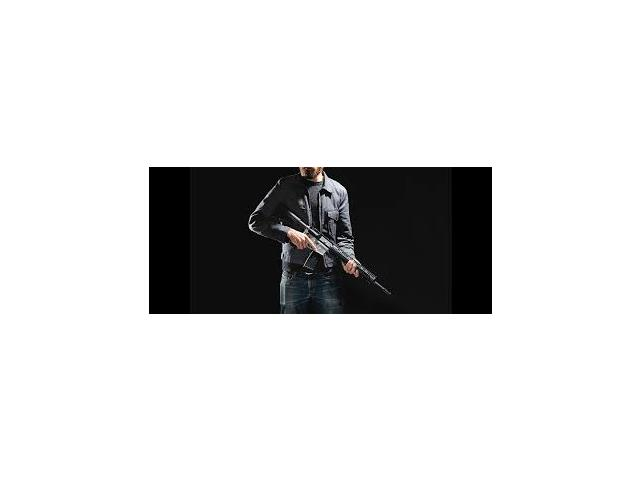rifle: (272, 204, 392, 300)
